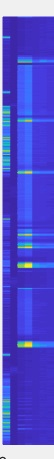leak: (13, 65, 54, 118), (16, 175, 54, 225), (12, 123, 53, 169), (16, 285, 50, 338)
